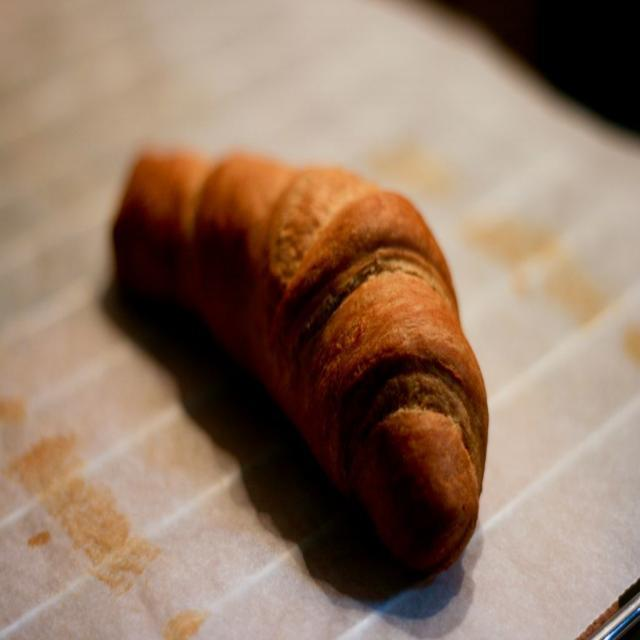Croissant: (112, 193, 482, 583)
